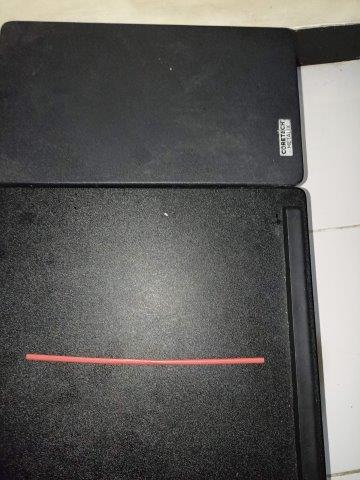sedotan: (26, 353, 264, 366)
